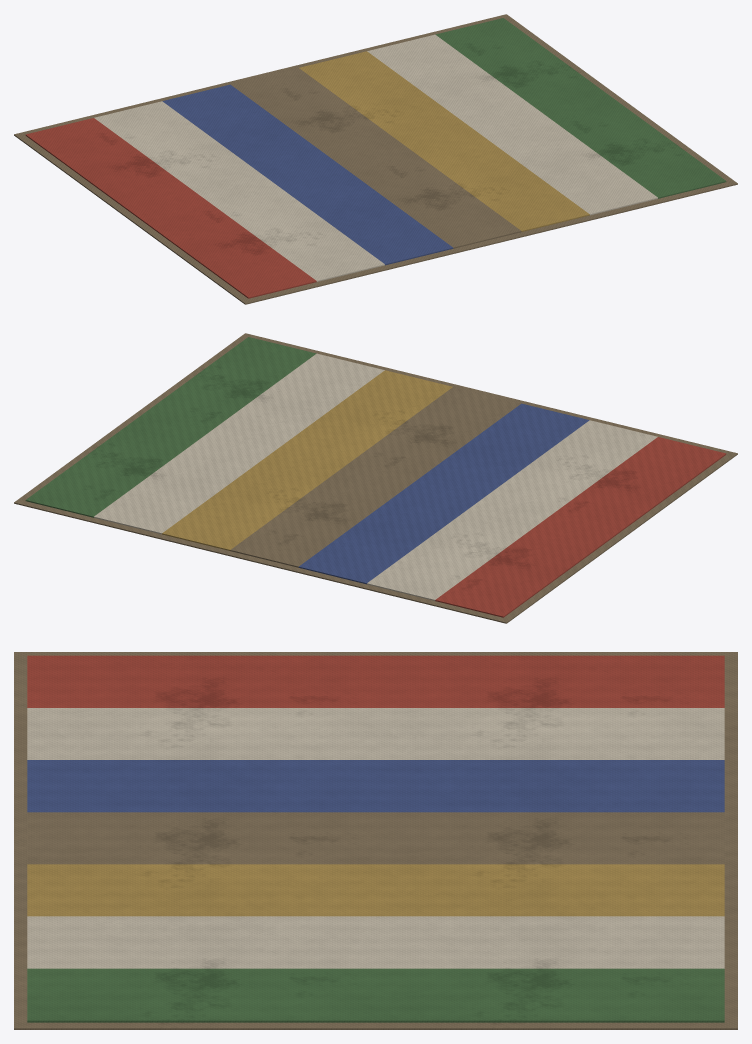
The model's file is rug.glb.
3 renders of one model, top to bottom at view 1: azimuth 30°, elevation 25°; view 2: azimuth 150°, elevation 25°; view 3: azimuth 270°, elevation 25°, orthographic. The views are drawn at different scales.
Visible parts, largest first — view 1: rug; view 2: rug; view 3: rug.
Part boxes in pixels (box(x1,y1,x2,y2)): rug: box(14, 14, 737, 304); rug: box(14, 333, 737, 623); rug: box(14, 652, 737, 1029).
Size of the model in its own units: 2.68 by 0.012 by 2.18.
6 materials, 6 textured.
